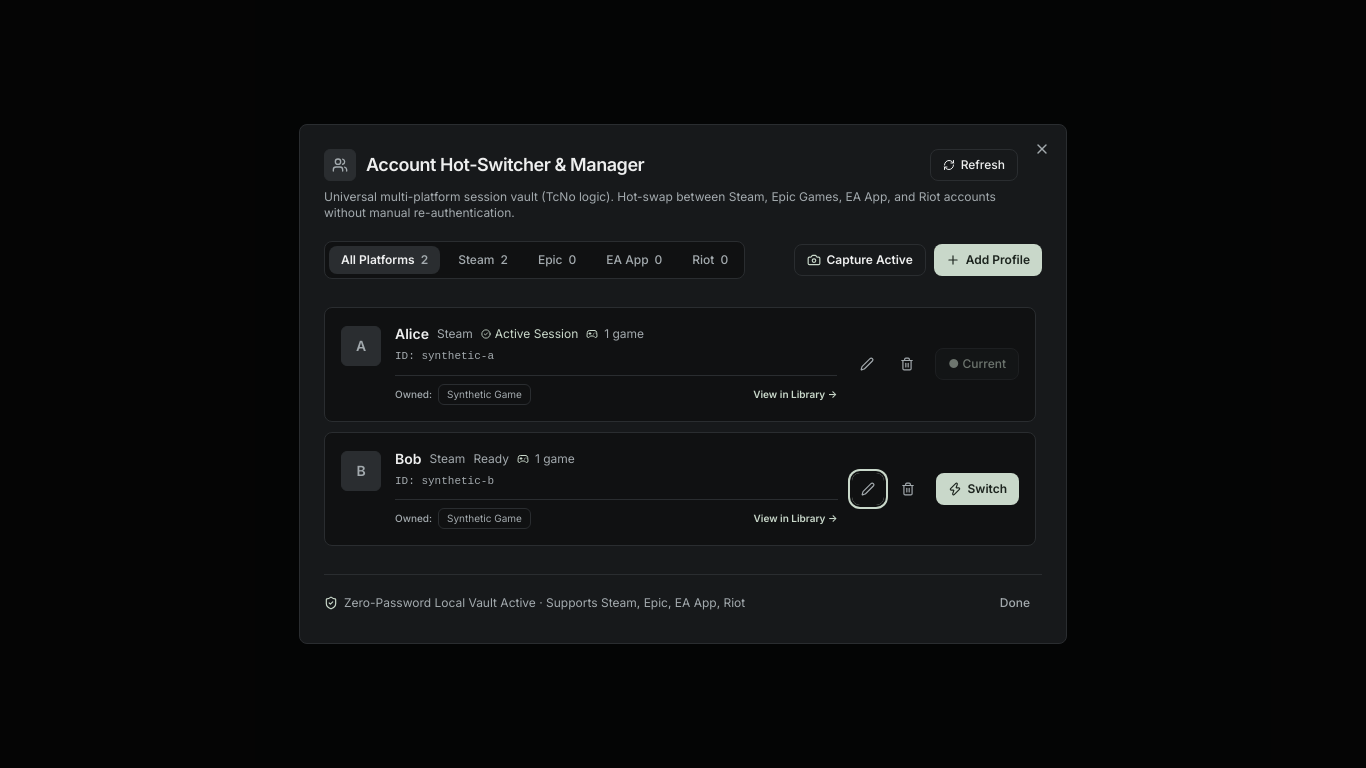
Test: account manager presentation and preserved workflows › Rename Bob nested dismissal restores its parent action
Click the button named "Rename Bob" at (868, 489), box [852,473,884,505]
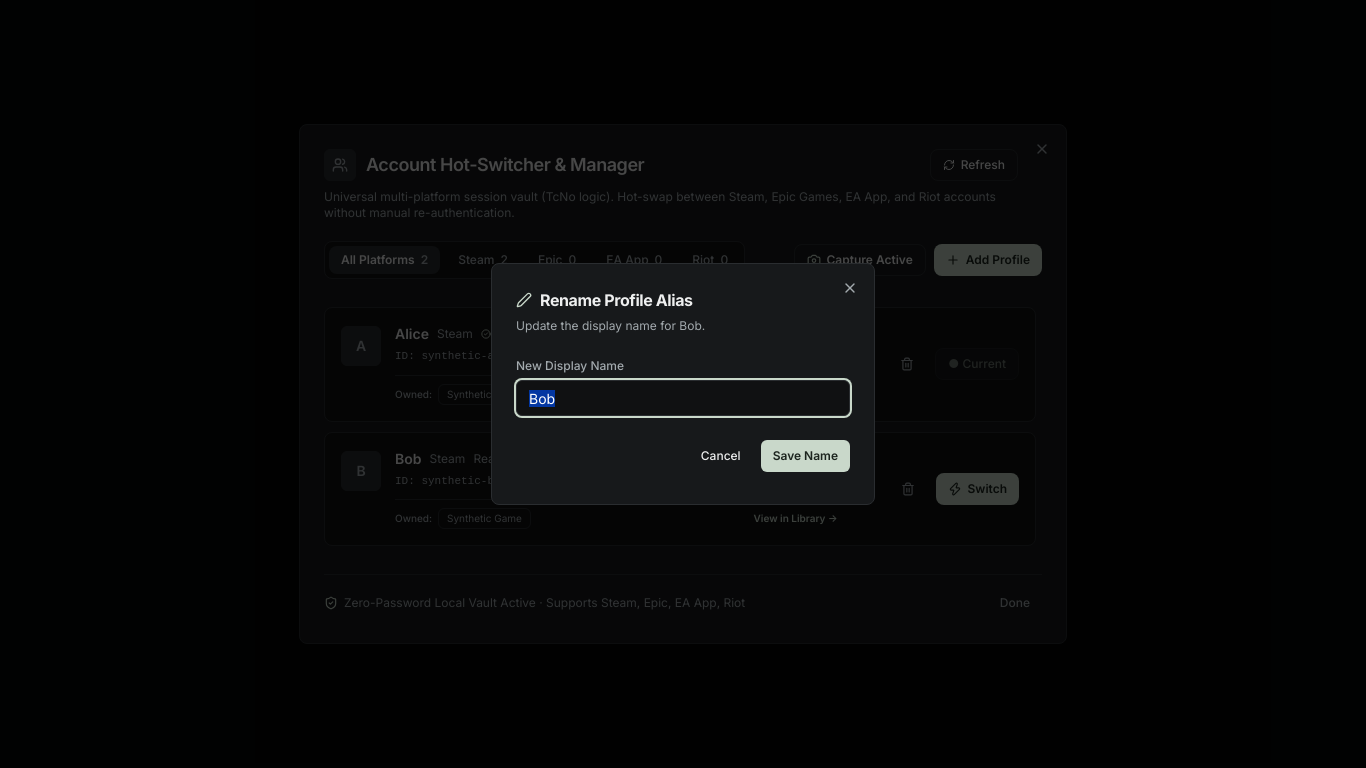
Press Escape in the field labelled "New Display Name", box [516,380,850,416]
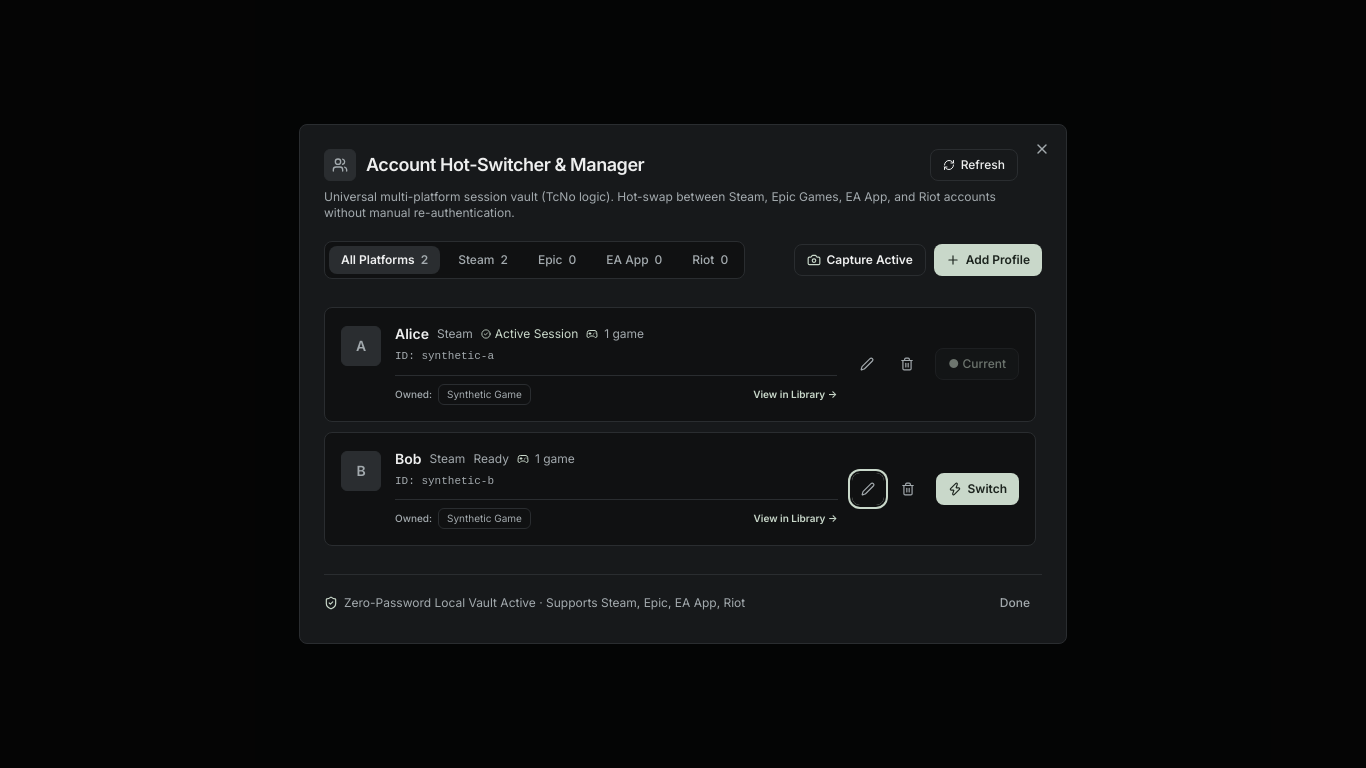
Expected: the dialog "Account Hot-Switcher & Manager" is shown, [299,124,1067,644]
Expected: the heading "Rename Profile Alias" is gone
